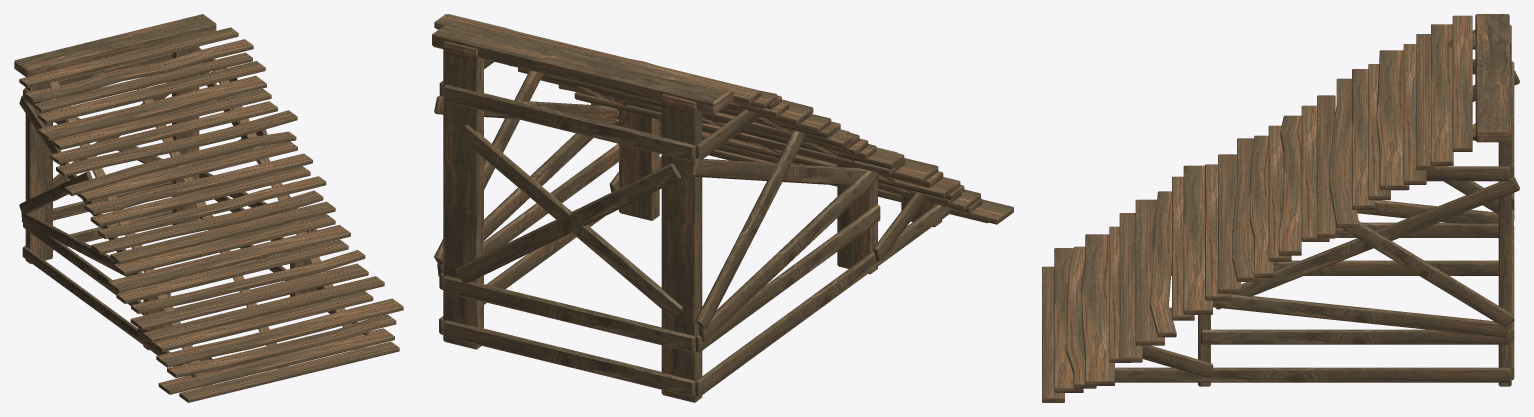
File: SM_street_stairs_01.fbx
3 renders of one model, left to right at view 1: azimuth 30°, elevation 25°; view 2: azimuth 150°, elevation 25°; view 3: azimuth 270°, elevation 25°, orthographic. The views are drawn at different scales.
Parts seen in each view (by area): view 1: SM_street_stairs_01_LOD0; view 2: SM_street_stairs_01_LOD0; view 3: SM_street_stairs_01_LOD0.
Boxes of the visible parts, box(x1,y1,x2,y2) form: SM_street_stairs_01_LOD0: box(14, 14, 403, 402); SM_street_stairs_01_LOD0: box(432, 14, 1013, 402); SM_street_stairs_01_LOD0: box(1042, 14, 1519, 402).
Bounding box in the file's own units: 465 × 613 × 374.
1 material, 1 textured.
